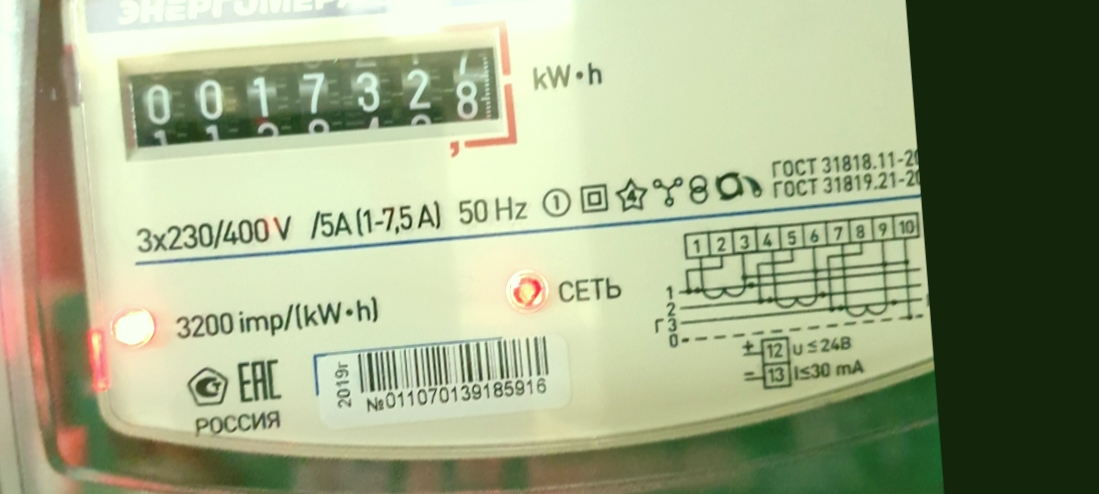0: (141, 81, 176, 127), (195, 74, 227, 122)
1: (249, 72, 274, 120)
2: (401, 65, 434, 112)
3: (353, 68, 383, 114)
7: (299, 69, 329, 117)
8: (452, 77, 480, 121)
screen: (107, 20, 526, 180)
